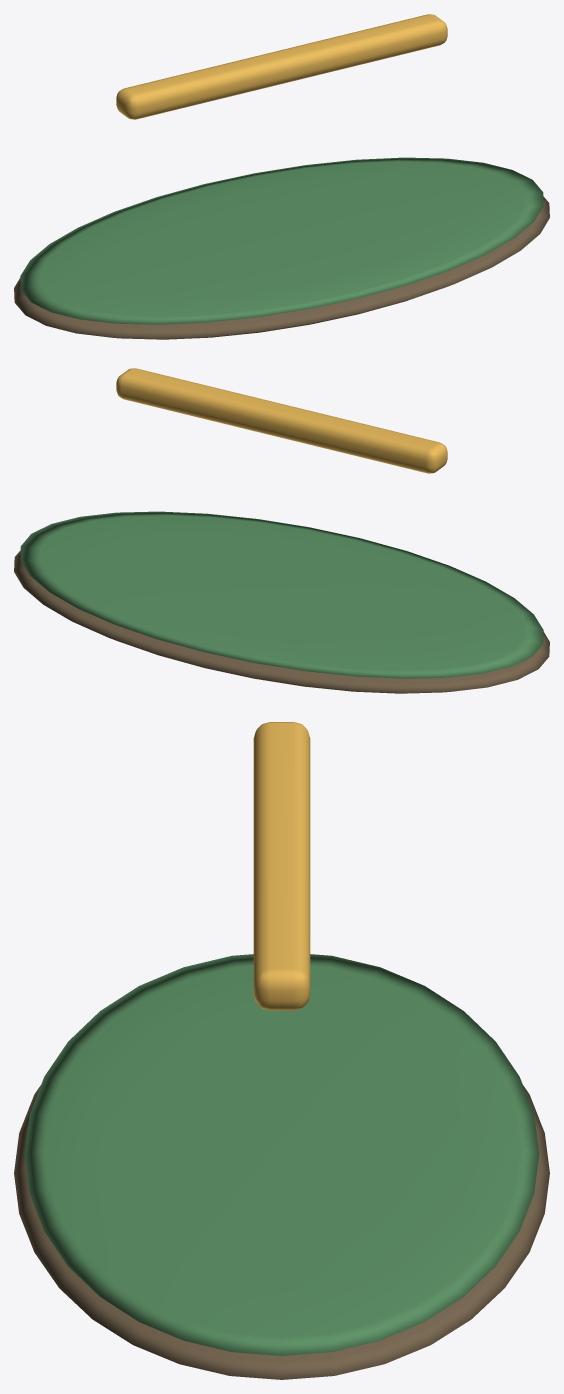
Rendered from one.glb.
3 renders of one model, top to bottom at view 1: azimuth 30°, elevation 25°; view 2: azimuth 150°, elevation 25°; view 3: azimuth 270°, elevation 25°, orthographic. The views are drawn at different scales.
Parts seen in each view (by area): view 1: one_surface_01, one_surface_02, one_surface_00; view 2: one_surface_01, one_surface_02, one_surface_00; view 3: one_surface_01, one_surface_00, one_surface_02.
Boxes of the visible parts, <box> form: one_surface_01: <box>20,157,543,324</box>; one_surface_02: <box>116,14,447,119</box>; one_surface_00: <box>14,196,549,339</box>; one_surface_01: <box>20,511,543,678</box>; one_surface_02: <box>116,368,447,473</box>; one_surface_00: <box>14,550,549,693</box>; one_surface_01: <box>24,954,539,1355</box>; one_surface_00: <box>14,1085,549,1379</box>; one_surface_02: <box>253,722,310,1010</box>.
Size of the model in its own units: 4.56 by 1.81 by 2.5.
